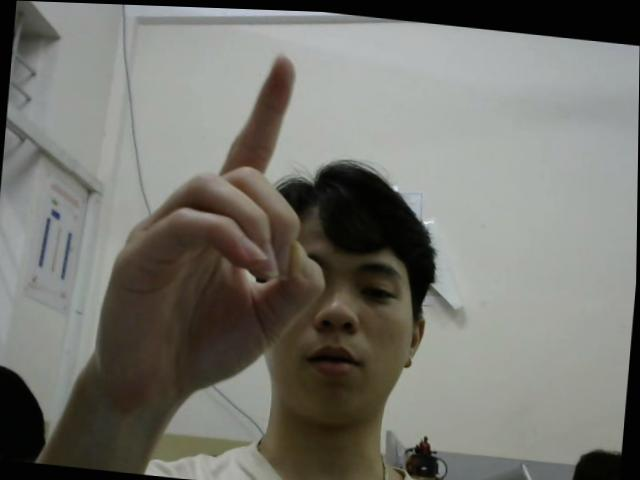D: (90, 30, 343, 409)
